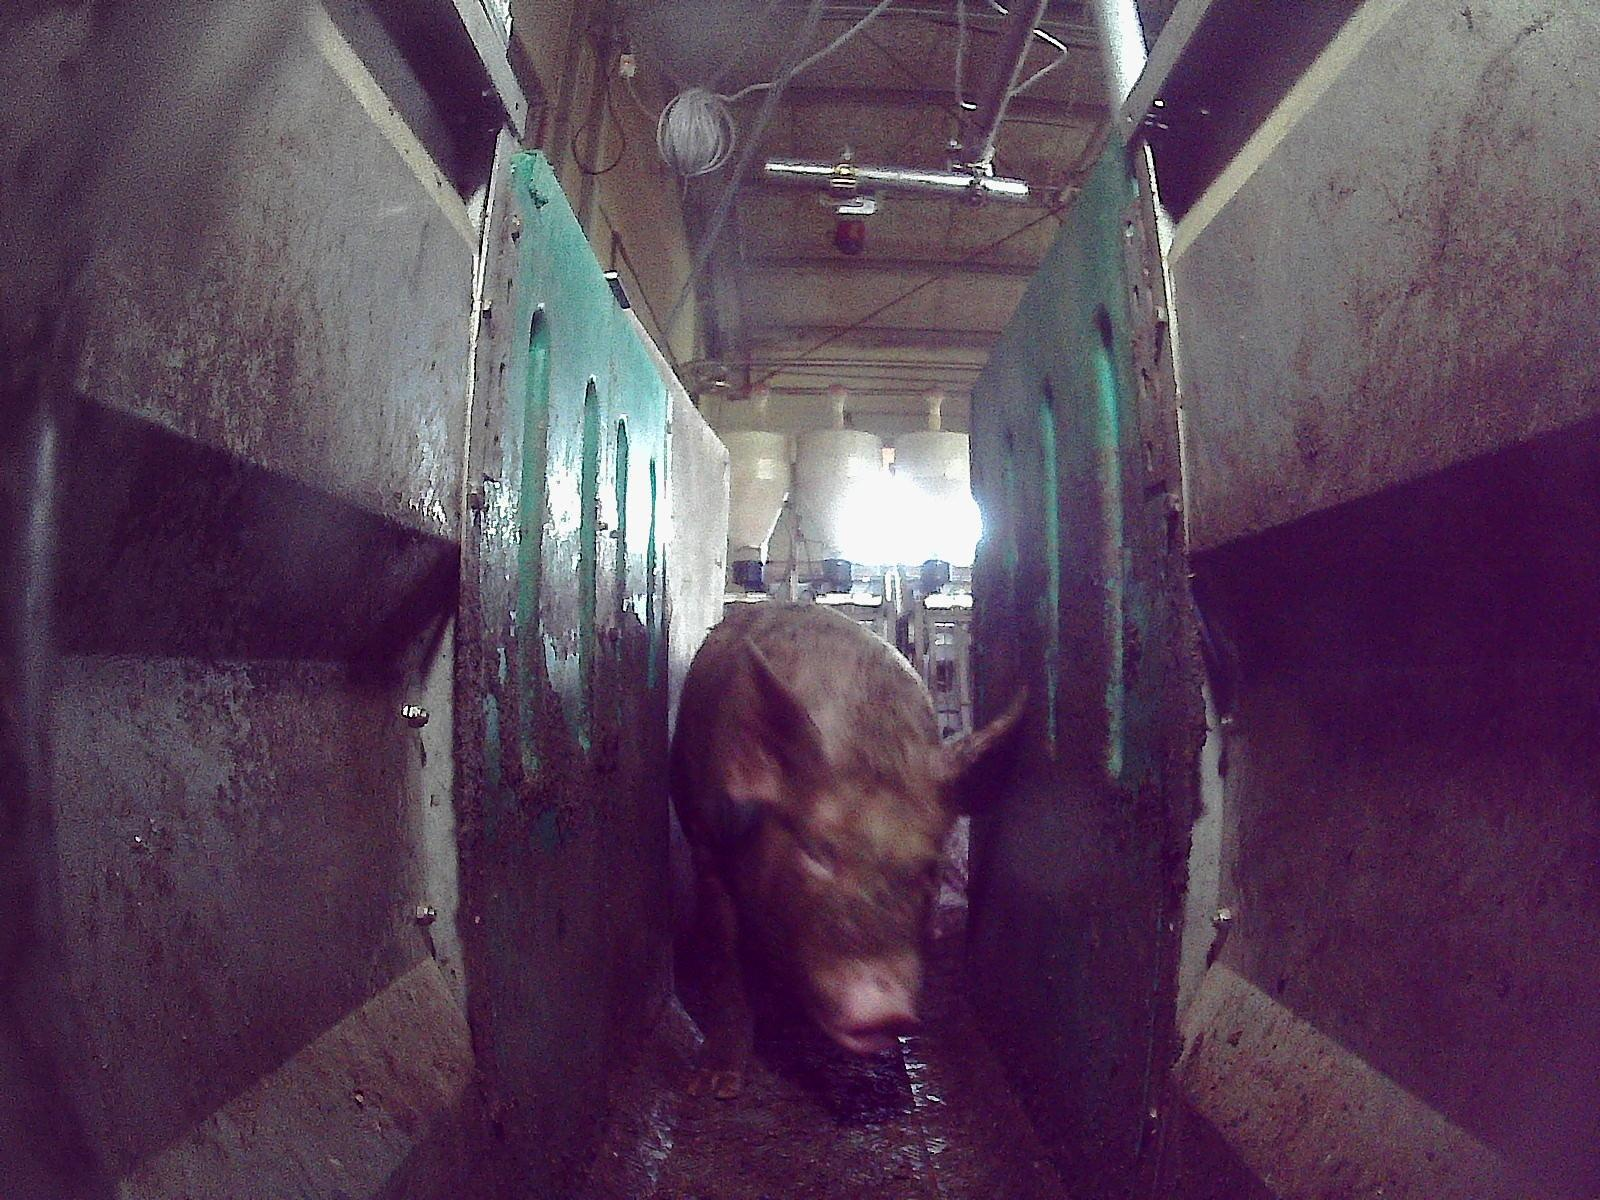Face: (747, 756, 947, 1050)
